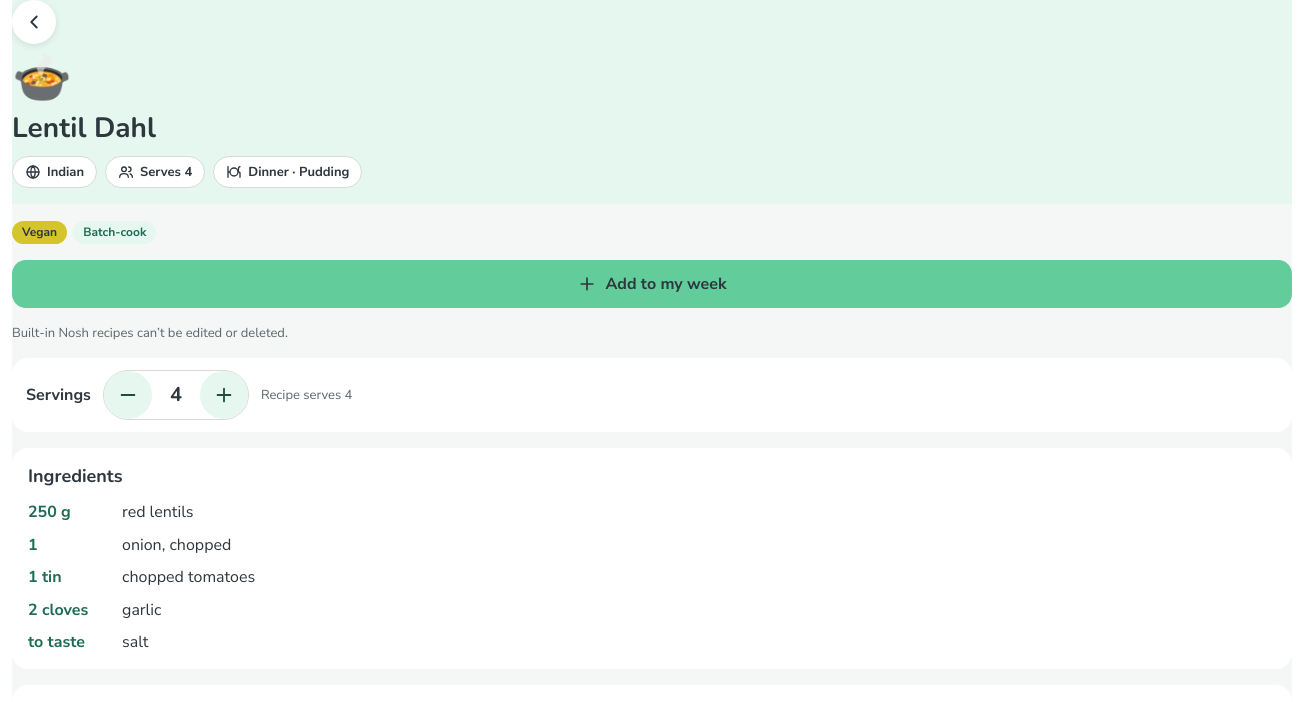
Test case: RecipeDetailPage portion scaling › refetches when servings change, keeps the URL in step and ignores slower older replies
Expected: the text "250 g" is shown, [28,501,71,523]
Click the button named "More servings": (224, 395) [200,371,248,419]
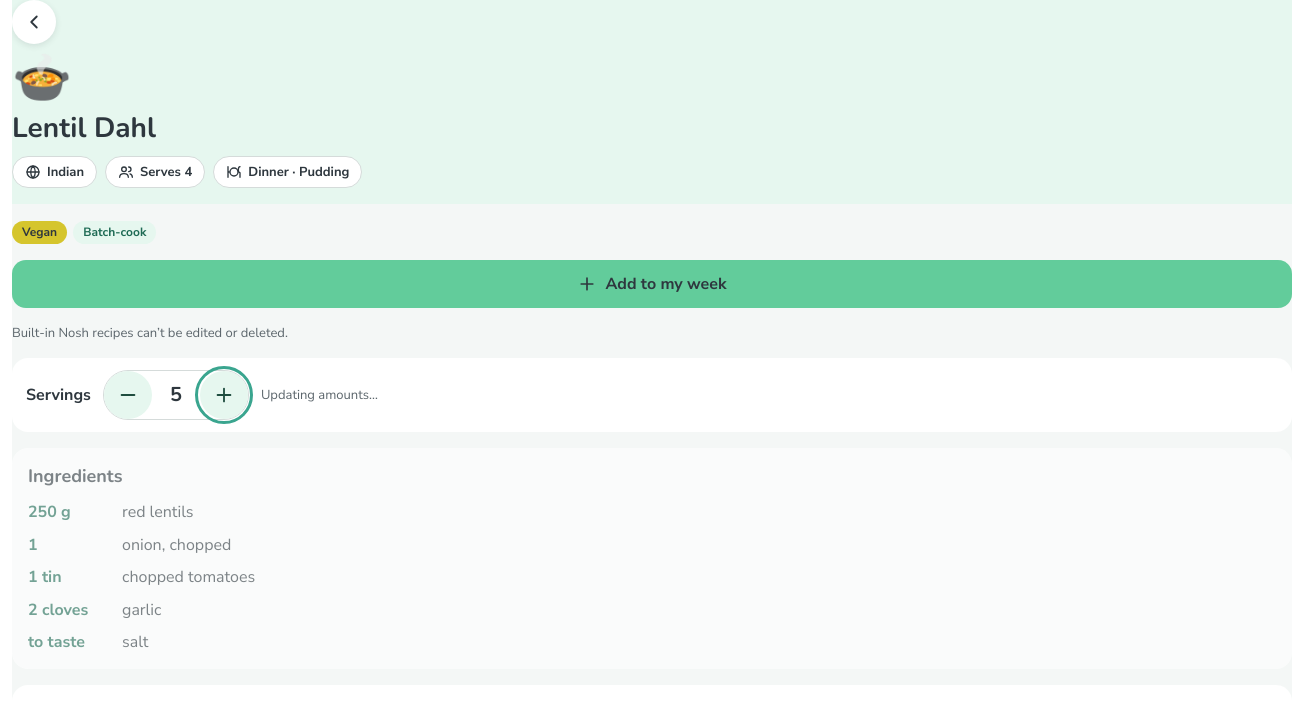
Click the button named "More servings": (224, 395) [200,371,248,419]
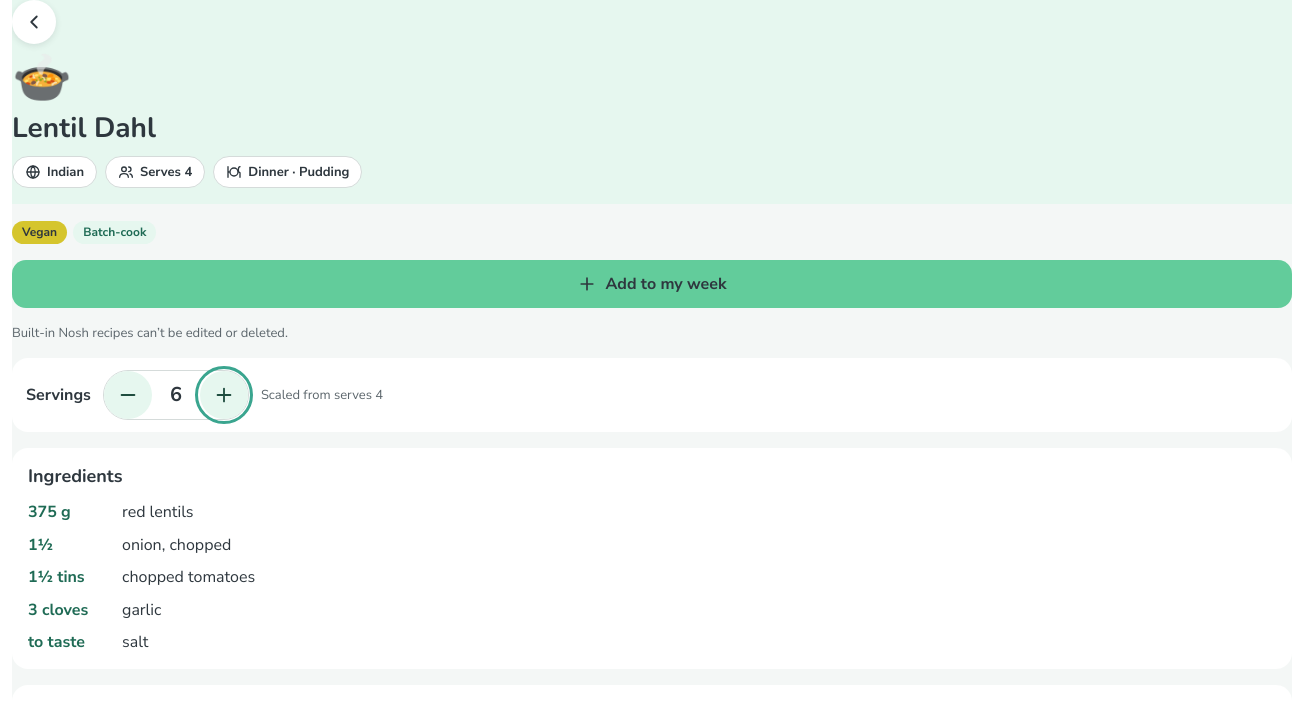
Expected: the text "375 g" is shown, [28,501,71,523]
Expected: the text "Scaled from serves 4" is shown, [261,386,383,404]
